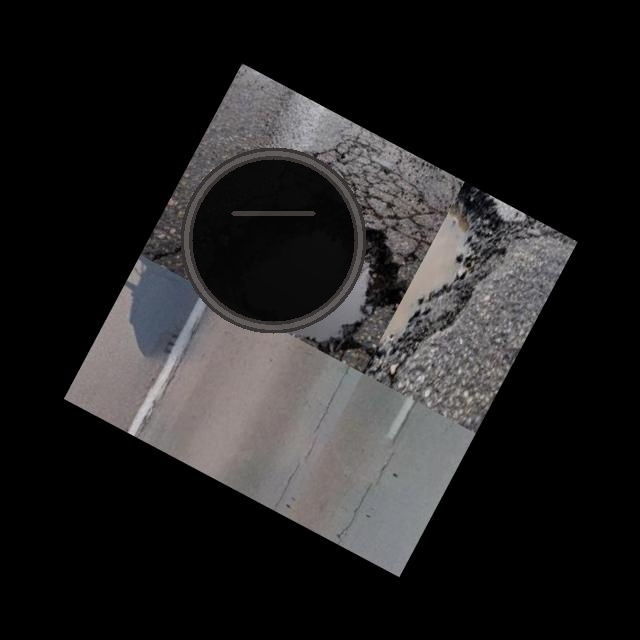open_manhole: (177, 144, 369, 336)
